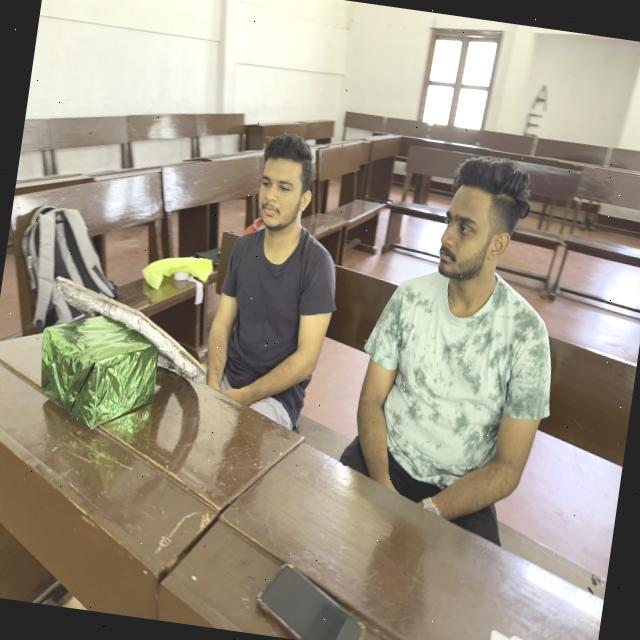no-seatbelt: (350, 266, 567, 564), (198, 212, 352, 460)
